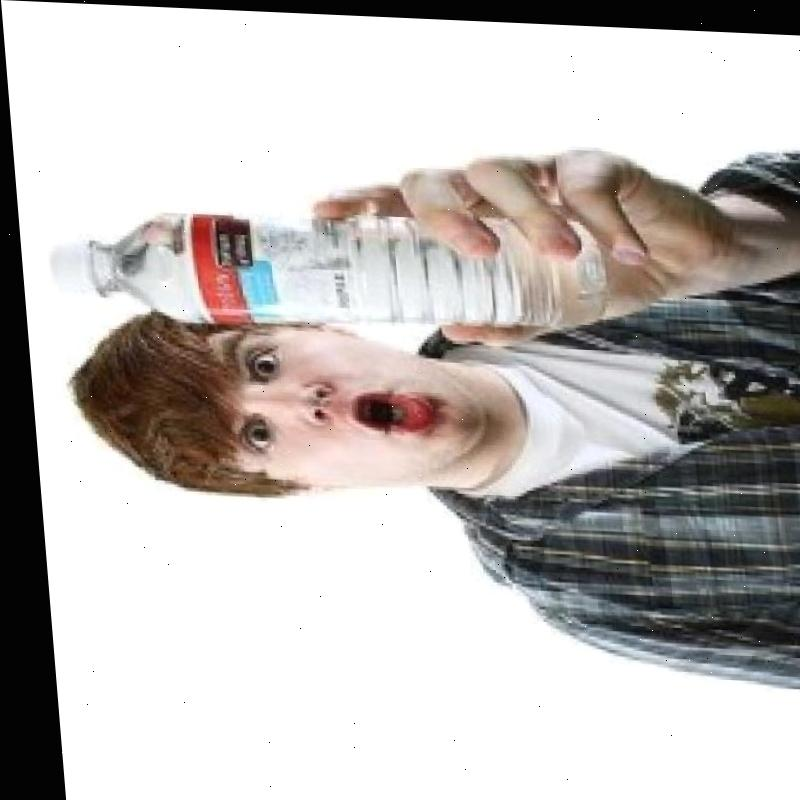botella: (41, 206, 608, 338)
